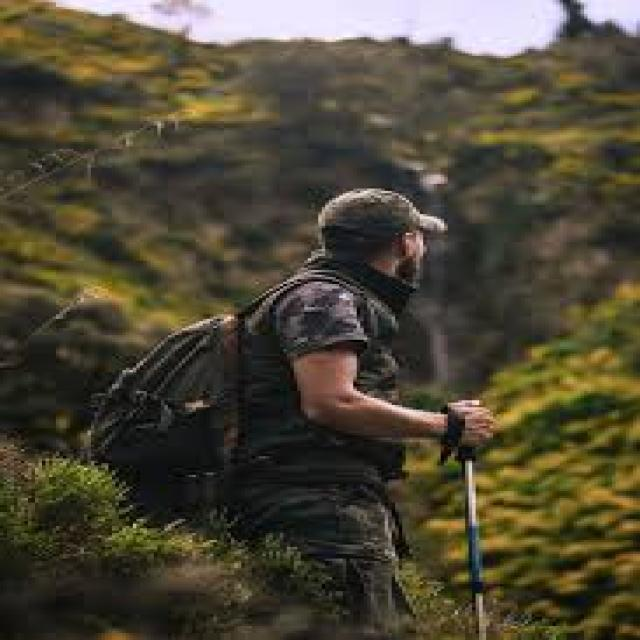3_gorra: (317, 186, 451, 251)
